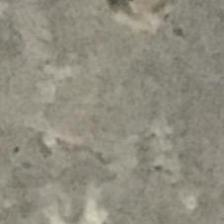Non_Crack: (16, 18, 224, 197)
